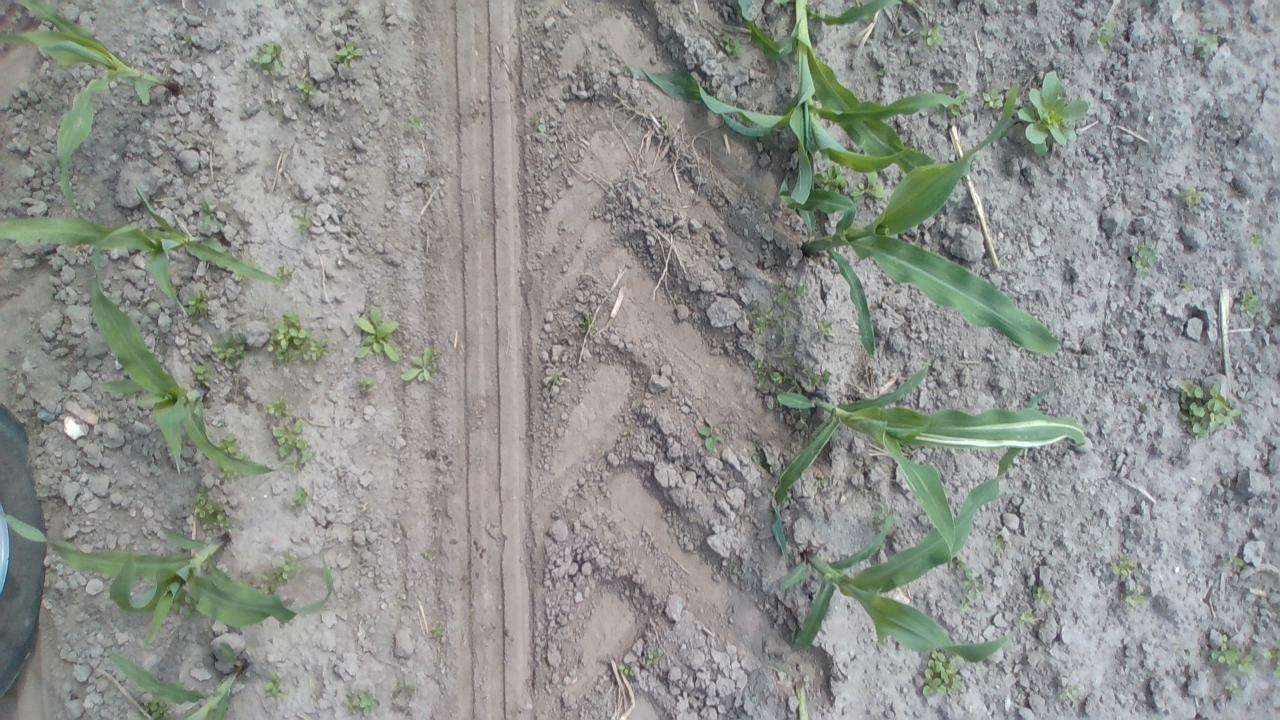Maize: (776, 72, 1062, 356), (778, 385, 1056, 664), (627, 0, 967, 211), (769, 360, 1088, 570), (86, 220, 277, 476), (4, 512, 337, 650), (0, 167, 286, 317), (0, 0, 182, 213), (105, 642, 250, 720), (794, 681, 809, 720)
Weeds: (1016, 68, 1091, 156), (1174, 378, 1242, 444), (748, 283, 806, 346), (264, 308, 328, 364), (350, 300, 400, 364), (240, 546, 298, 594), (270, 420, 316, 475), (920, 649, 966, 699), (786, 354, 833, 397), (1208, 632, 1256, 674), (190, 484, 232, 530), (954, 556, 986, 616), (210, 328, 248, 374), (398, 345, 441, 385), (749, 354, 785, 391), (342, 686, 383, 718), (252, 41, 286, 79), (940, 80, 968, 122), (1130, 239, 1158, 280), (850, 171, 887, 200), (198, 193, 225, 231), (697, 414, 724, 452), (264, 670, 294, 704), (388, 674, 418, 708), (814, 164, 848, 194), (335, 39, 366, 71), (1233, 286, 1261, 318), (541, 366, 571, 393), (1175, 184, 1205, 211), (134, 698, 170, 720), (185, 288, 211, 318), (288, 205, 313, 236), (1092, 18, 1116, 50), (718, 32, 744, 60), (1110, 552, 1136, 580), (285, 483, 308, 514), (1261, 643, 1280, 680), (1122, 586, 1149, 612), (918, 21, 944, 48), (1012, 605, 1038, 630), (764, 649, 790, 673), (980, 87, 1004, 111), (266, 397, 294, 417), (1224, 678, 1244, 705), (1058, 680, 1080, 704), (296, 78, 316, 102), (356, 374, 376, 396), (218, 432, 238, 454), (193, 363, 212, 386), (1030, 586, 1053, 605), (1196, 30, 1219, 49), (816, 316, 835, 338), (989, 532, 1008, 554), (429, 618, 447, 641), (578, 315, 597, 336), (527, 110, 545, 132), (644, 646, 661, 669), (407, 110, 426, 130), (728, 548, 741, 576), (274, 266, 294, 284), (1178, 278, 1200, 294), (872, 507, 892, 524), (1248, 231, 1265, 250), (752, 442, 766, 465), (1227, 551, 1245, 568), (616, 663, 636, 678), (814, 472, 828, 490), (420, 547, 435, 562), (218, 470, 237, 480), (660, 111, 671, 127), (622, 422, 634, 436), (180, 34, 192, 47), (236, 452, 250, 460), (876, 66, 884, 77)
